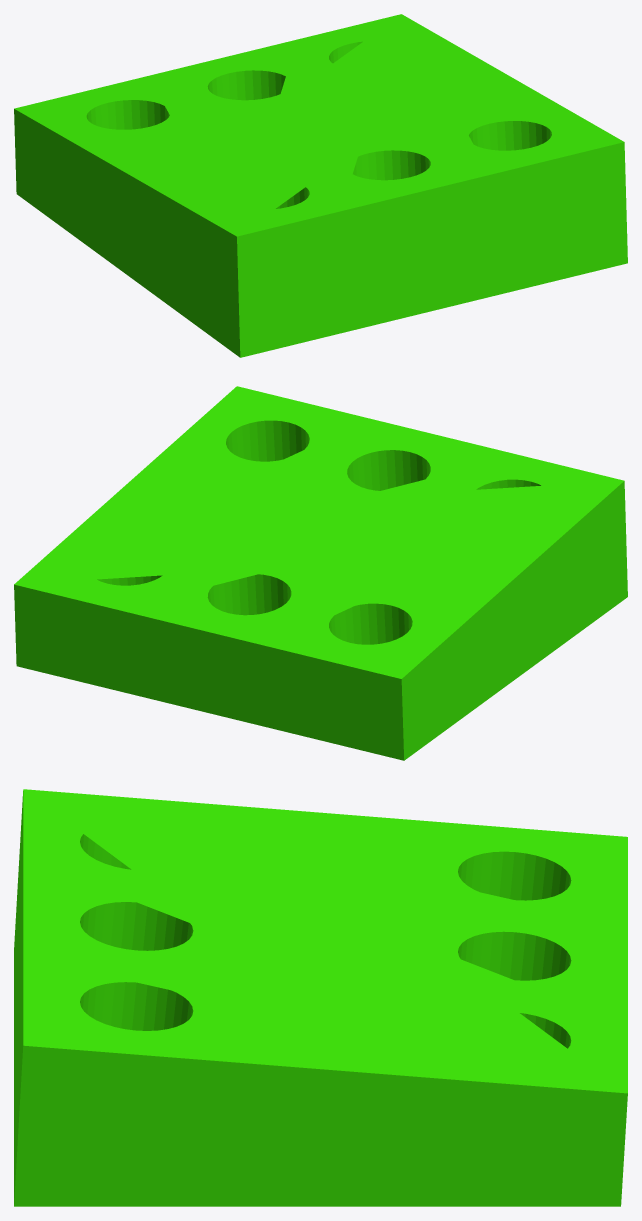
File: TerrenoTopos.fbx
The picture shows the model from 3 angles, top to bottom: view 1: azimuth 30°, elevation 25°; view 2: azimuth 150°, elevation 25°; view 3: azimuth 270°, elevation 25°; orthographic projection. The views are drawn at different scales.
Visible parts, largest first — view 1: Cubo; view 2: Cubo; view 3: Cubo.
Part boxes in pixels (box(x1,y1,x2,y2)): Cubo: box(14, 14, 627, 357); Cubo: box(14, 386, 627, 760); Cubo: box(14, 789, 627, 1206).
Size of the model in its own units: 1600 by 469 by 1618.
